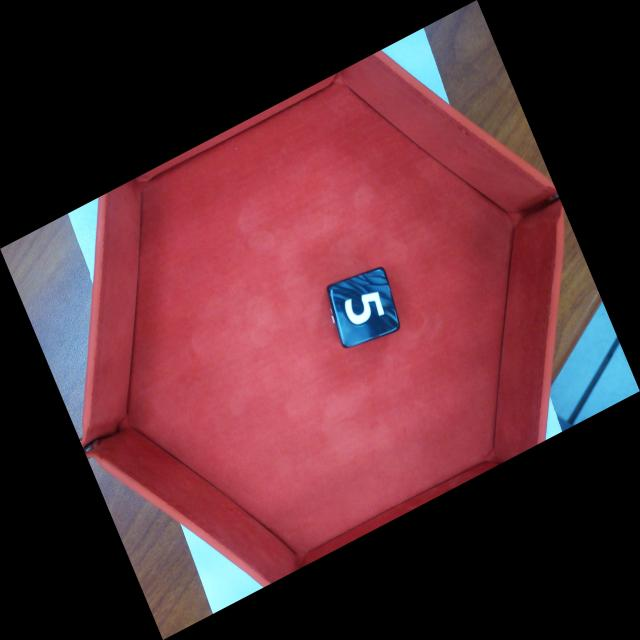dice: (325, 264, 404, 353)
